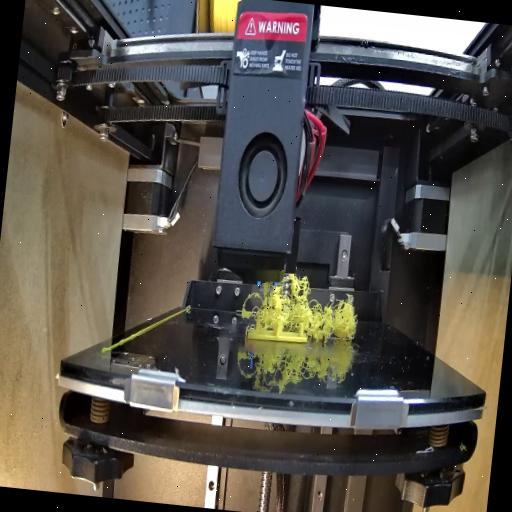spaghetti: (240, 262, 364, 342)
